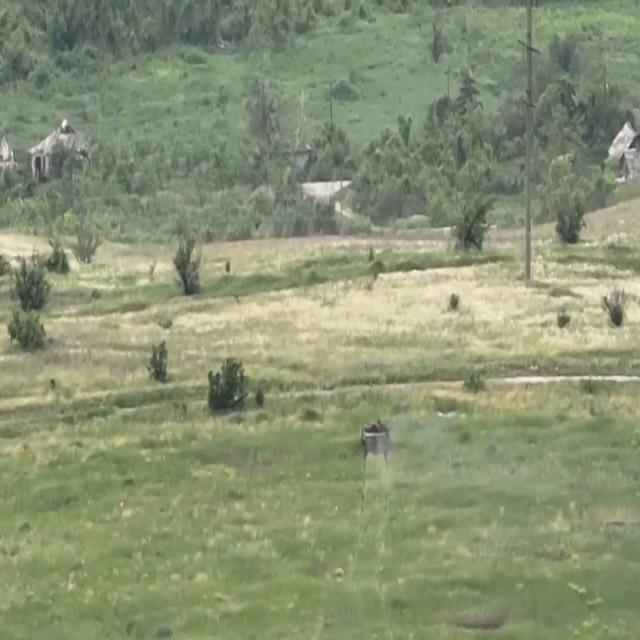AIFV: (362, 420, 392, 460)
